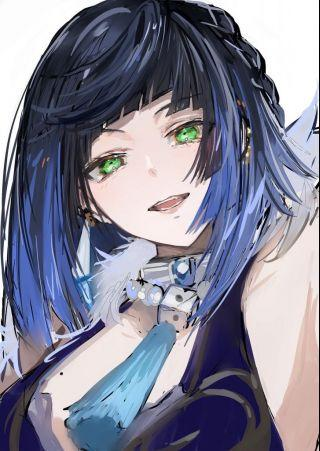夜兰: (1, 2, 320, 451)
